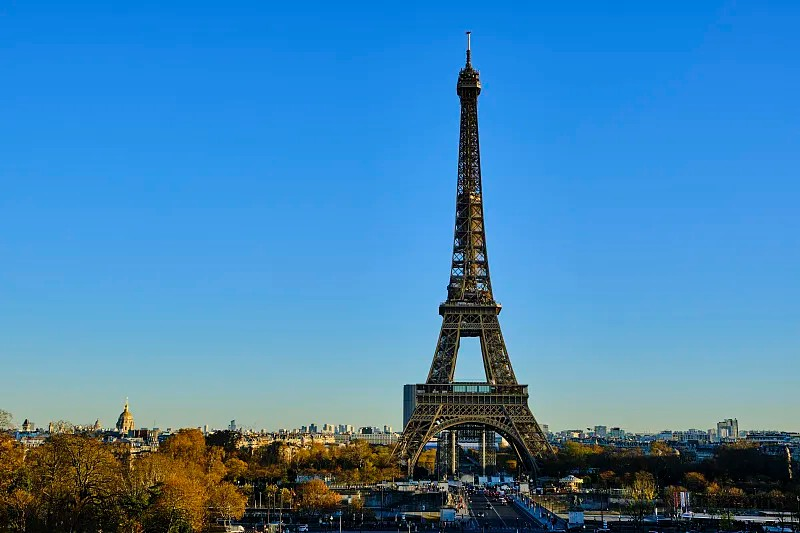Eiffel: (387, 31, 555, 473)
